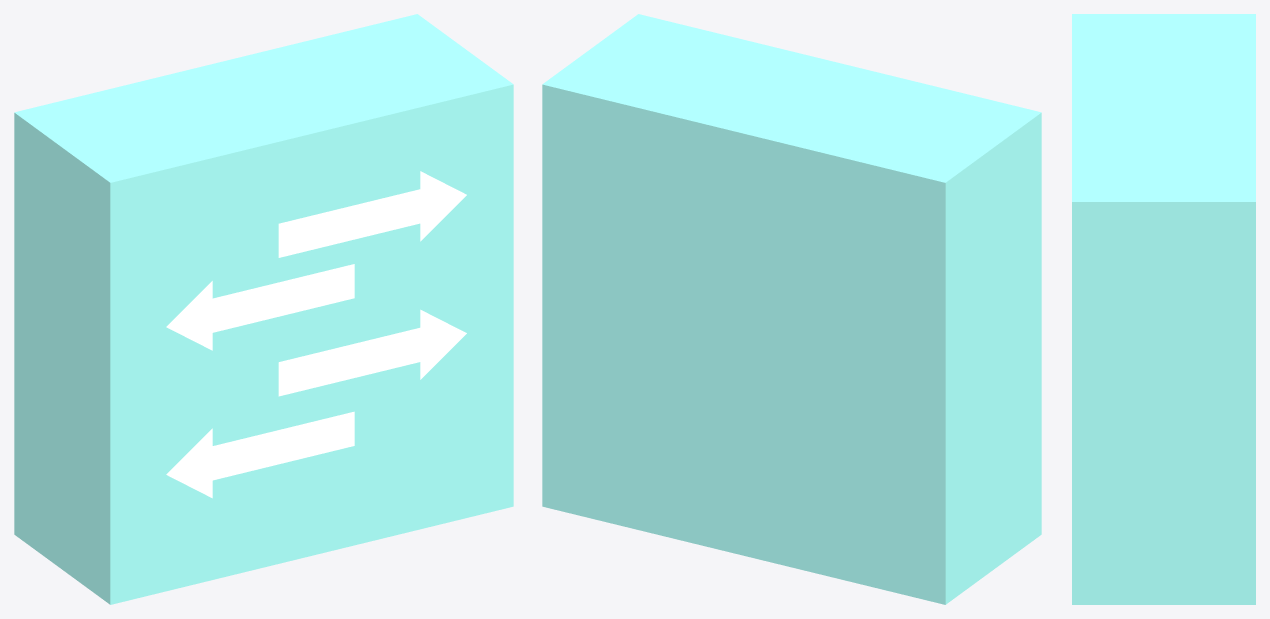
Rendered from switch.fbx.
3 renders of one model, left to right at view 1: azimuth 30°, elevation 25°; view 2: azimuth 150°, elevation 25°; view 3: azimuth 270°, elevation 25°, orthographic. The views are drawn at different scales.
Parts seen in each view (by area): view 1: 二层交换机; view 2: 二层交换机; view 3: 二层交换机.
Part boxes in pixels (box(x1,y1,x2,y2)): 二层交换机: box(14, 14, 513, 604); 二层交换机: box(542, 14, 1041, 604); 二层交换机: box(1072, 14, 1255, 604).
Bounding box in the file's own units: 195 × 195 × 81.52.
